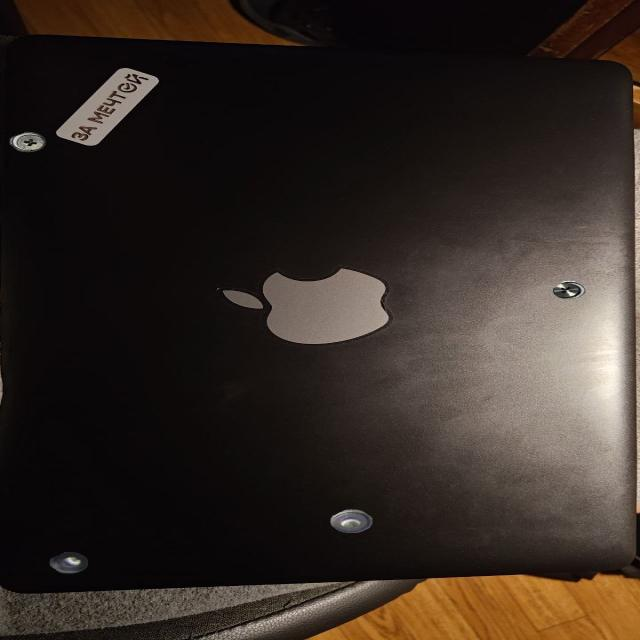lock: (9, 132, 44, 152), (552, 280, 586, 300)
missing_screw: (330, 509, 372, 533), (49, 552, 88, 574)
